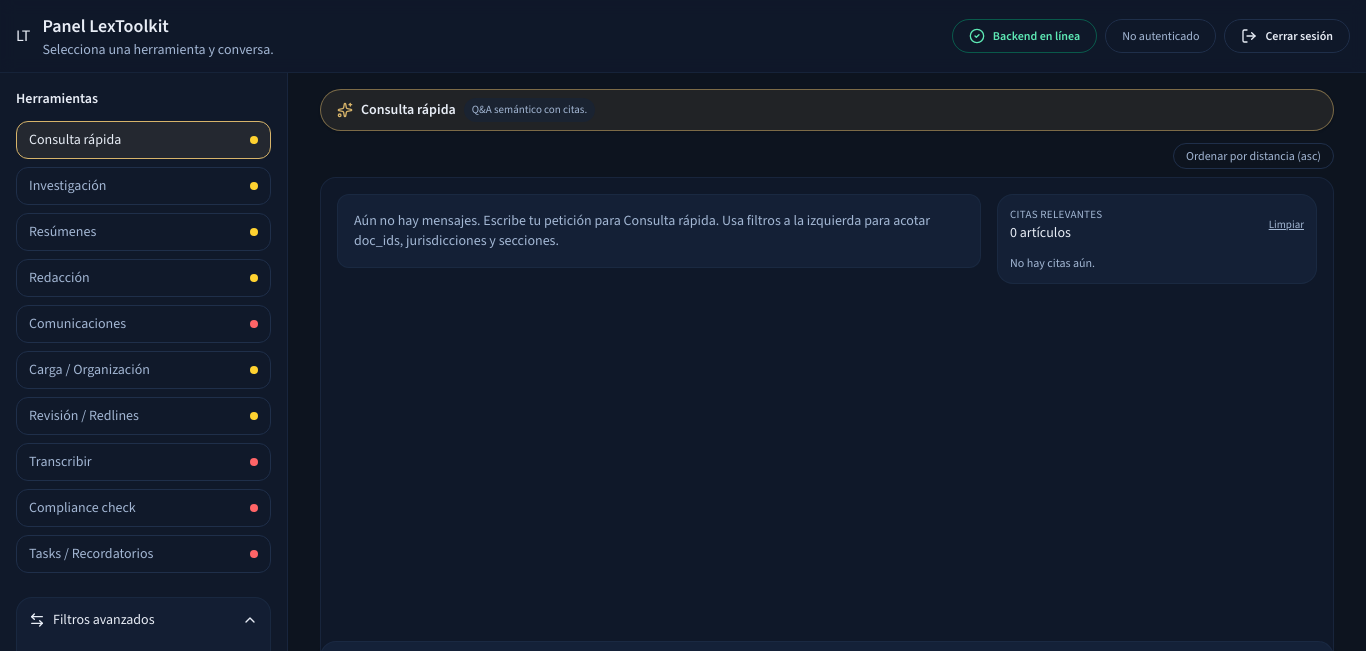
Test: DashboardPage research flow › resumes research via trace id
Click the button "Investigación". click: (144, 186)
box: [16,167,271,205]
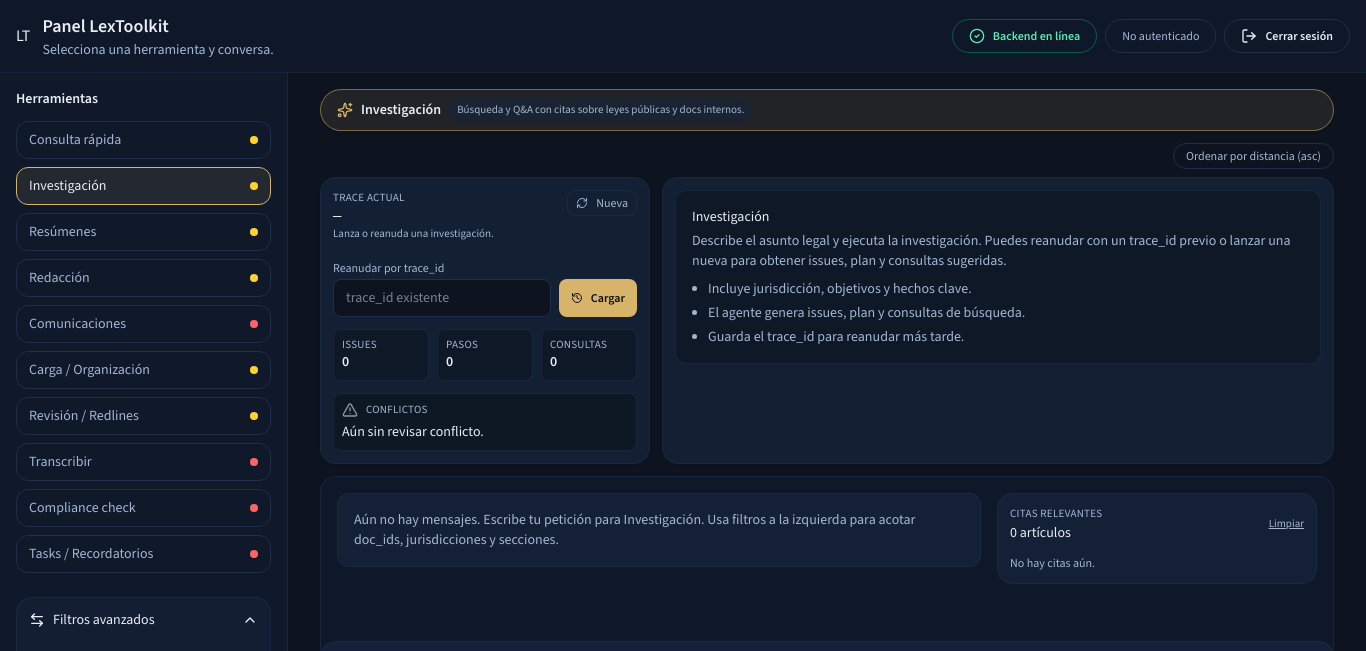
Type "trace-xyz" into the field named "Trace ID". click: (442, 298)
box: [333,279,551,317]
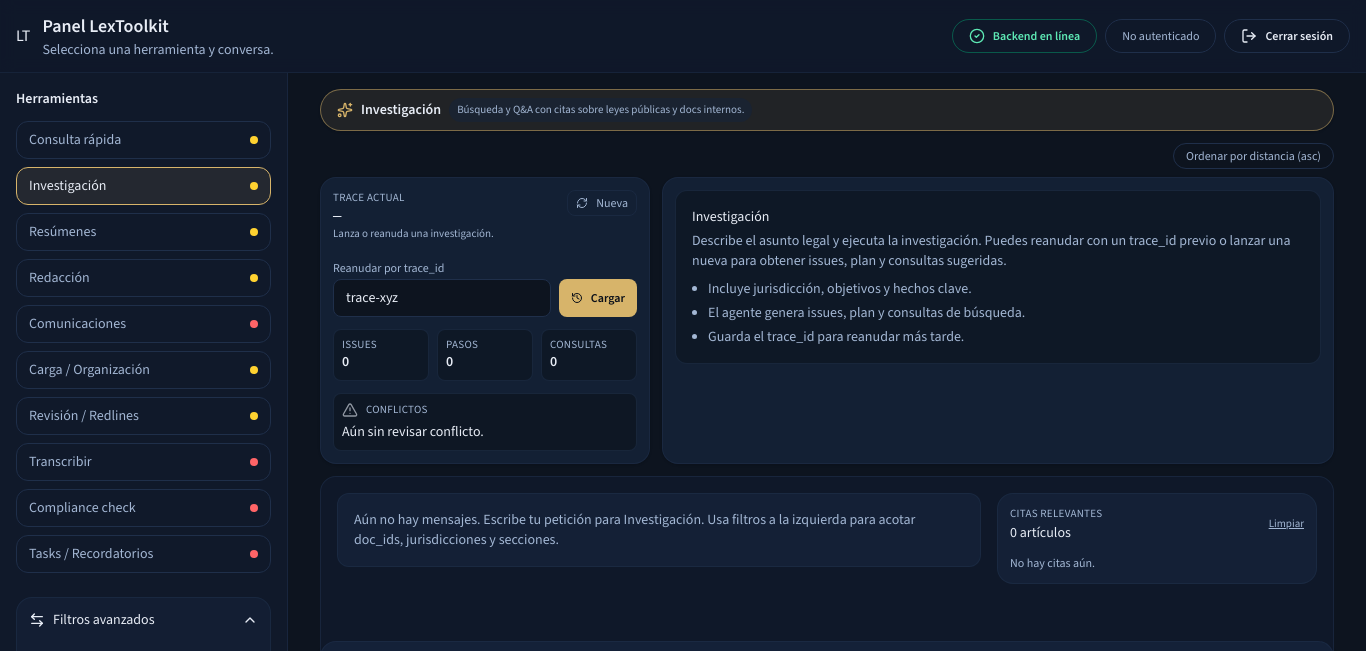
Click the button "Cargar". click: (598, 298)
box: [559,279,637,317]
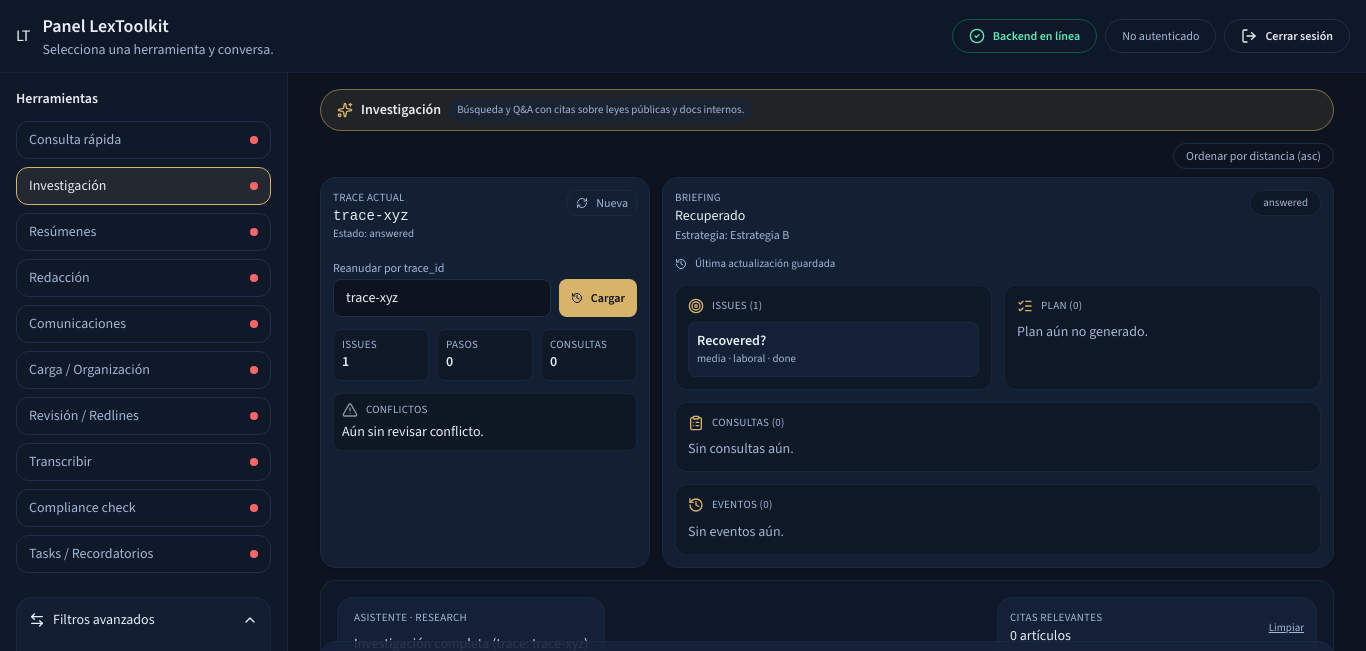
Check: the text "Recuperado" is shown, box [675,206,745,225]
